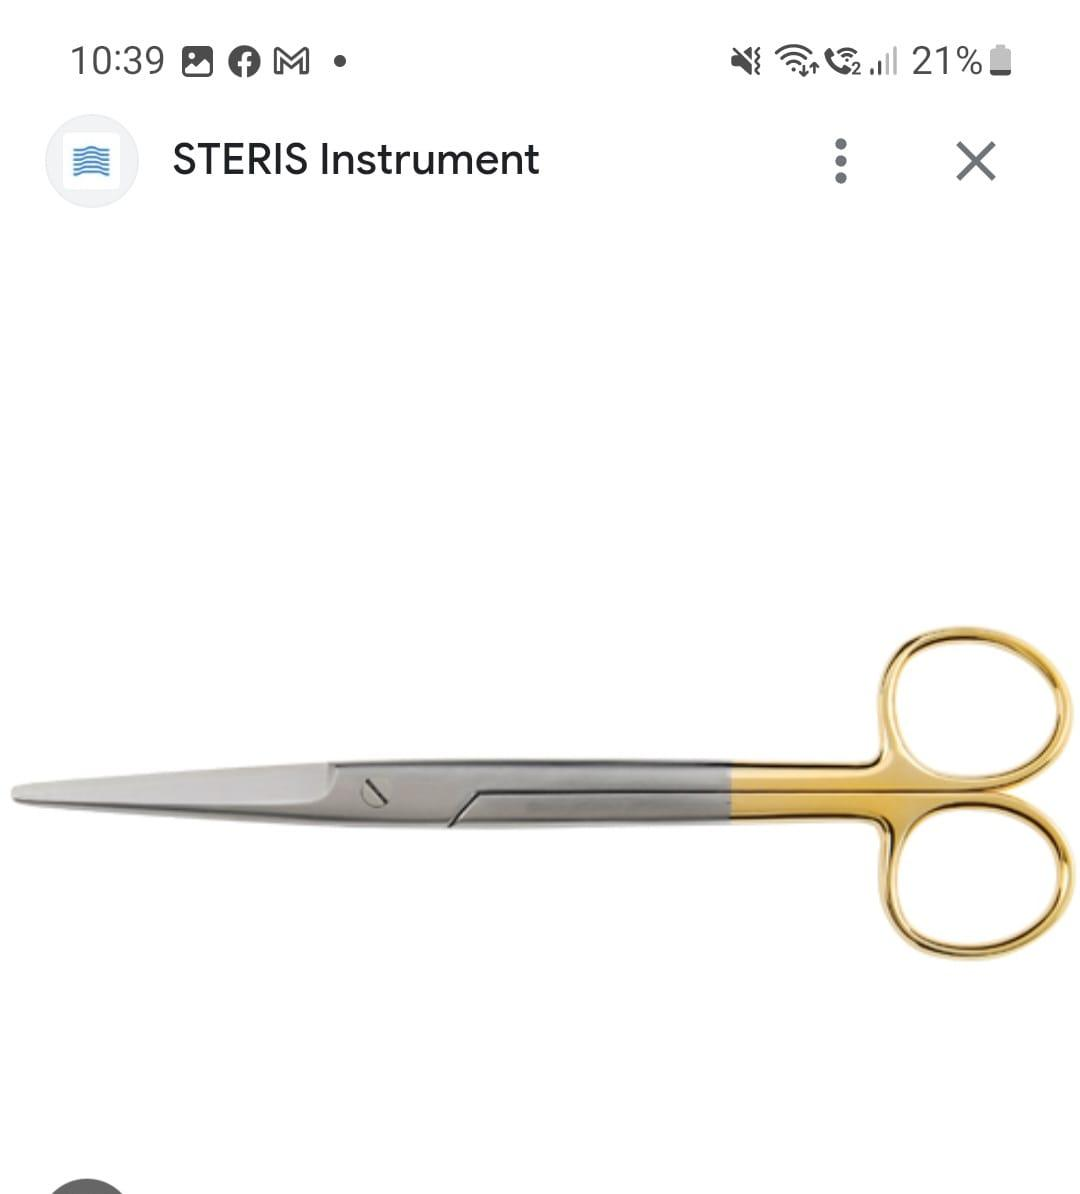Straight Mayo: (2, 608, 1070, 965)
